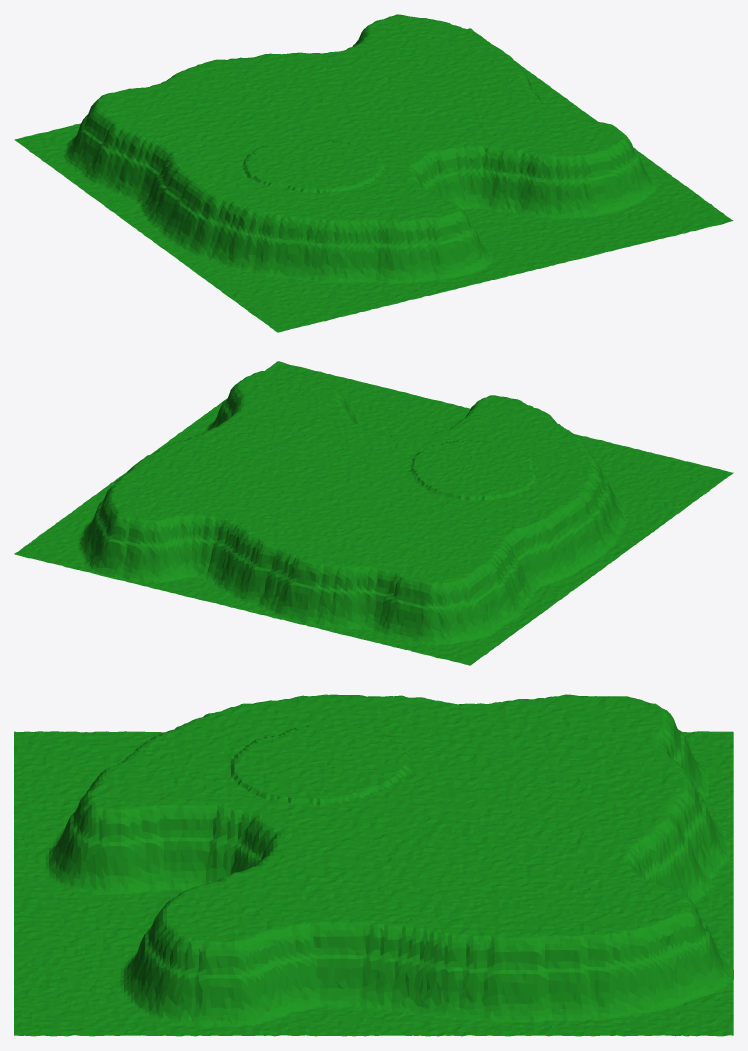
The model's file is map.glb.
The picture shows the model from 3 angles, top to bottom: view 1: azimuth 30°, elevation 25°; view 2: azimuth 150°, elevation 25°; view 3: azimuth 270°, elevation 25°; orthographic projection. The views are drawn at different scales.
Visible parts, largest first — view 1: Plane.001; view 2: Plane.001; view 3: Plane.001.
Boxes of the visible parts, x1,y1,x2,y2 form: Plane.001: [14, 14, 733, 332]; Plane.001: [14, 361, 733, 665]; Plane.001: [14, 694, 733, 1036].
Bounding box in the file's own units: 200 × 21.53 × 200.
